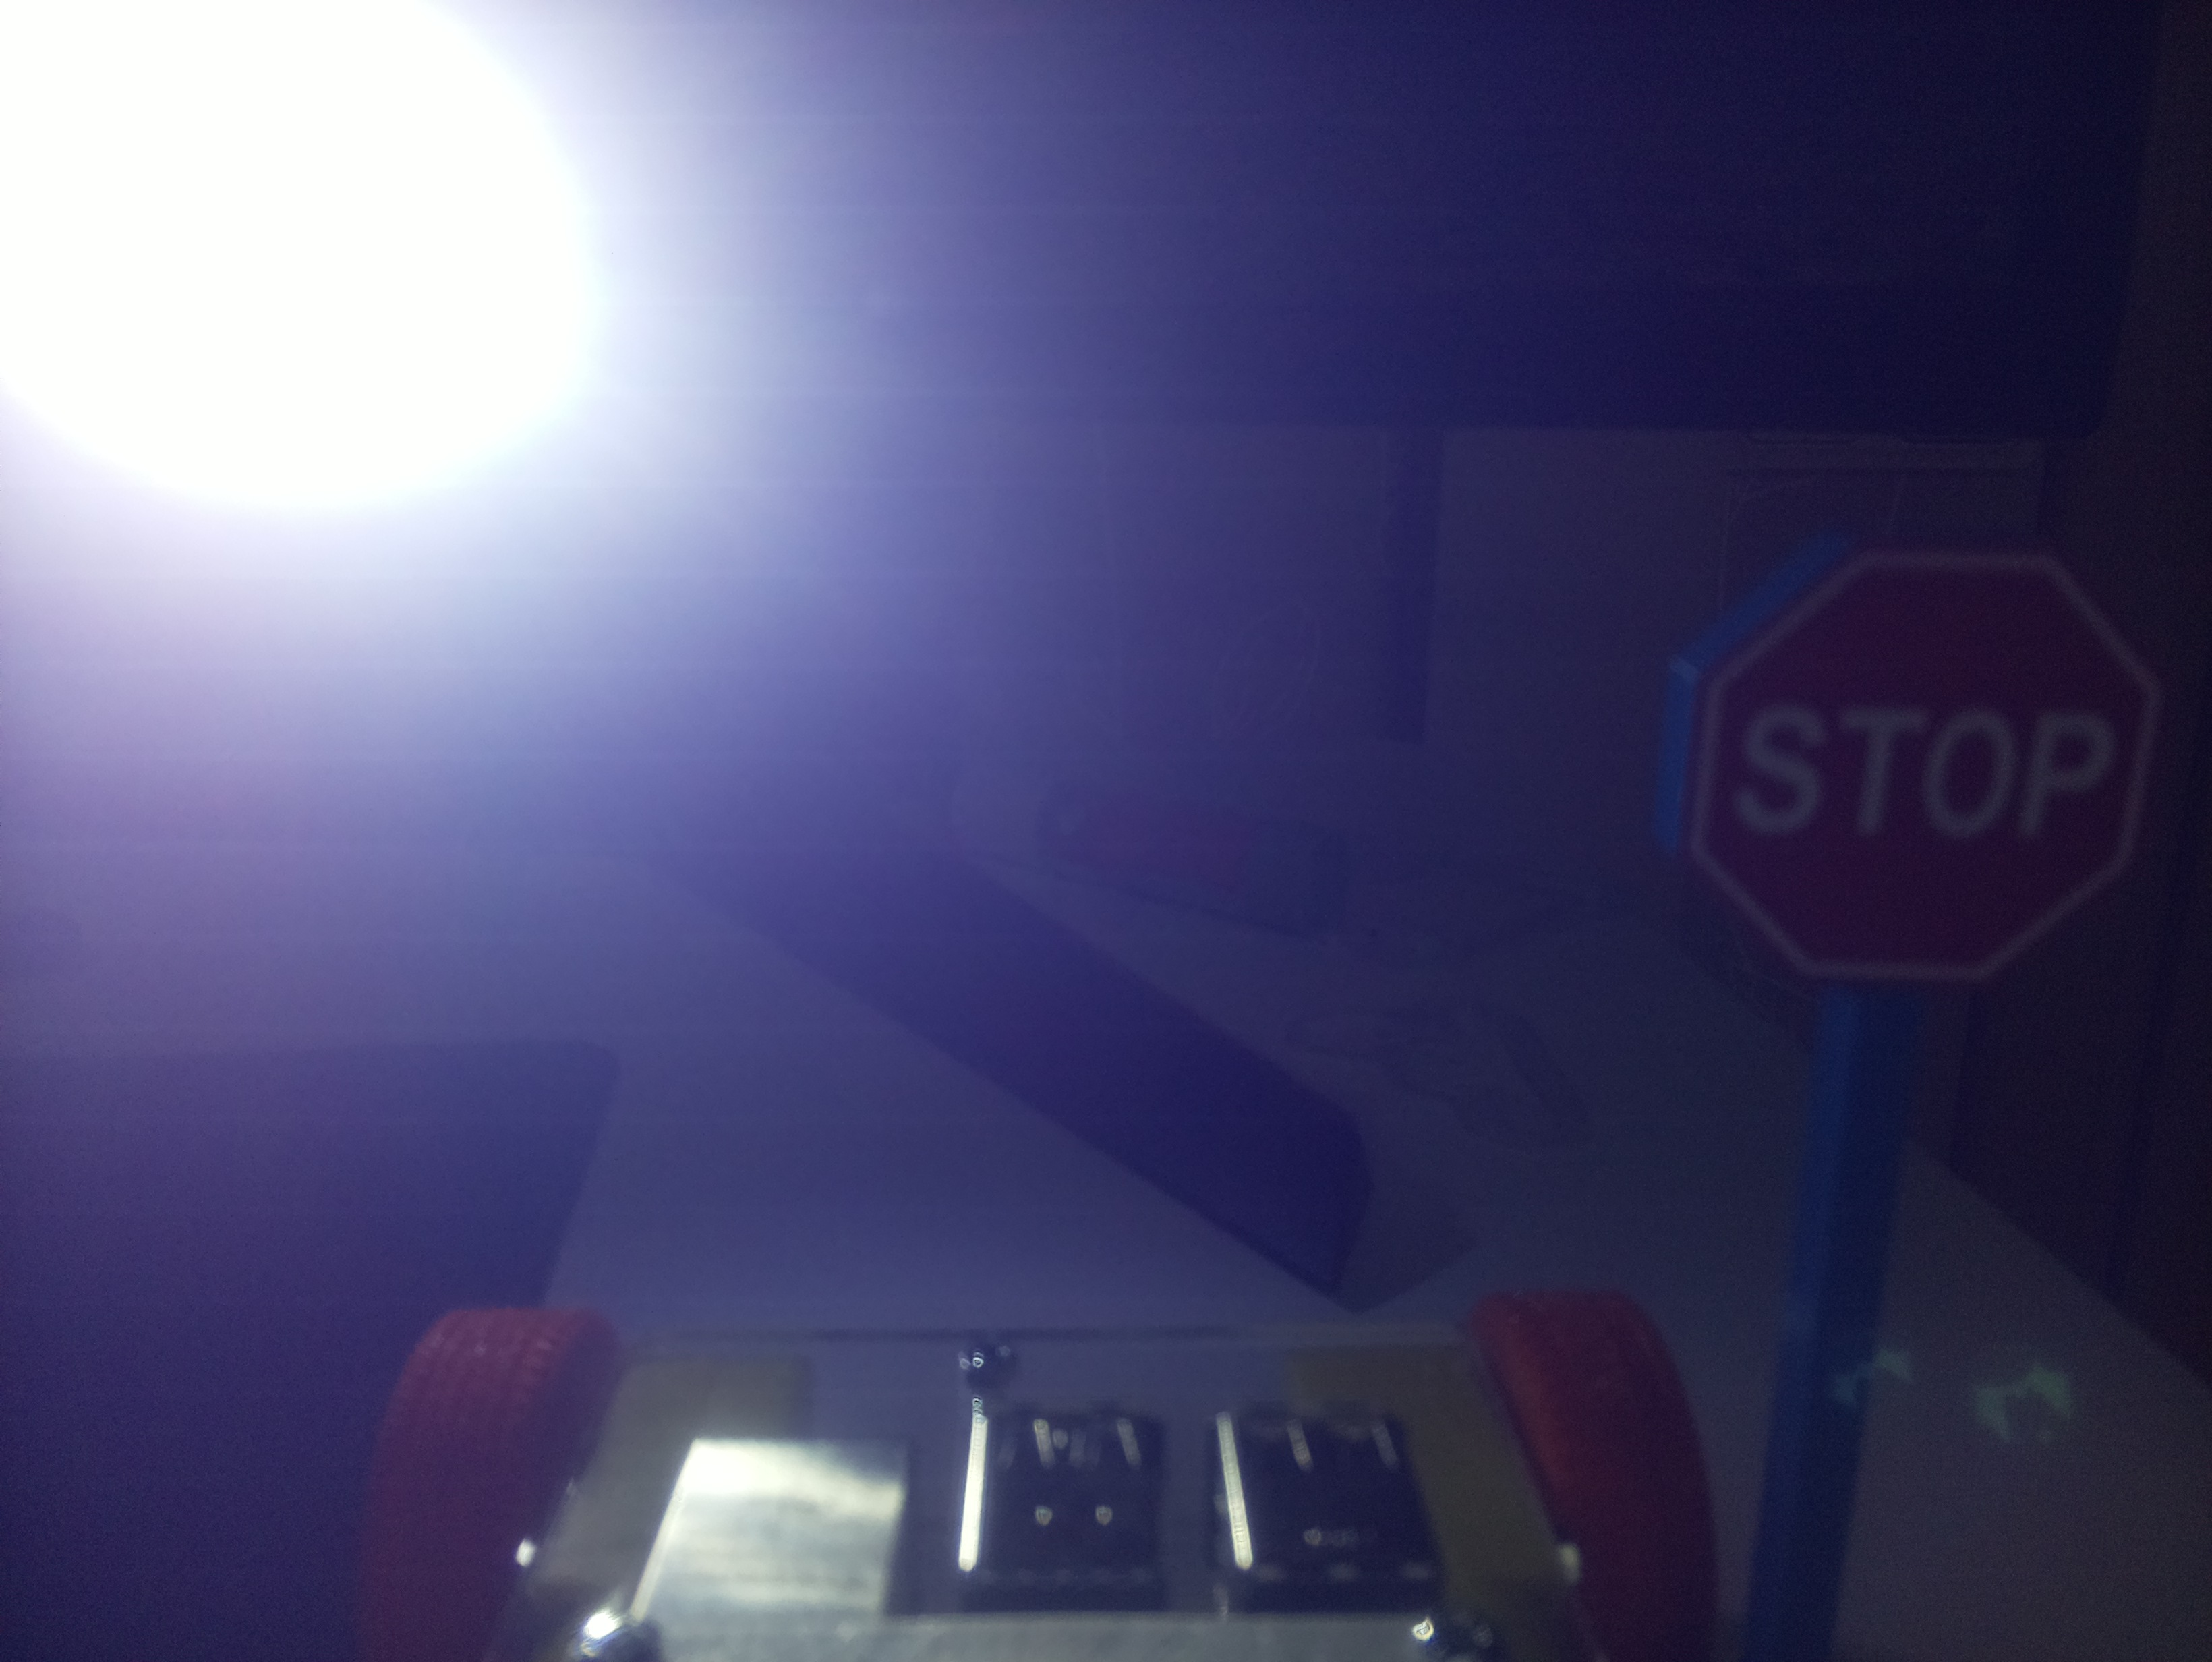stop: (1684, 532, 2168, 990)
